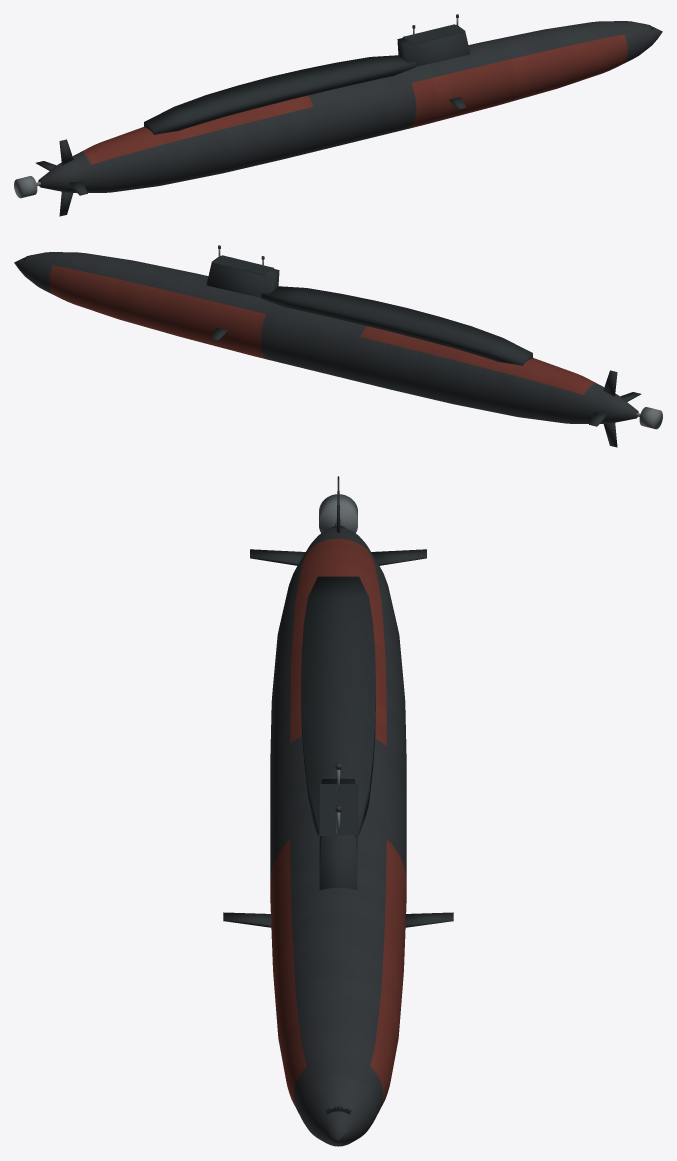
Rendered from CN_SSBN_Type094_LOD2.fbx.
The picture shows the model from 3 angles, top to bottom: view 1: azimuth 30°, elevation 25°; view 2: azimuth 150°, elevation 25°; view 3: azimuth 270°, elevation 25°; orthographic projection. The views are drawn at different scales.
Visible parts, largest first — view 1: CN_SSBN_Type094_LOD2; view 2: CN_SSBN_Type094_LOD2; view 3: CN_SSBN_Type094_LOD2.
Part boxes in pixels (x1,y1,x2,y2): CN_SSBN_Type094_LOD2: (14,14,662,216); CN_SSBN_Type094_LOD2: (14,245,662,447); CN_SSBN_Type094_LOD2: (223,476,453,1146).
Size of the model in its own units: 142 by 21.95 by 21.93.
Materials: 6 (1 with a texture image).
